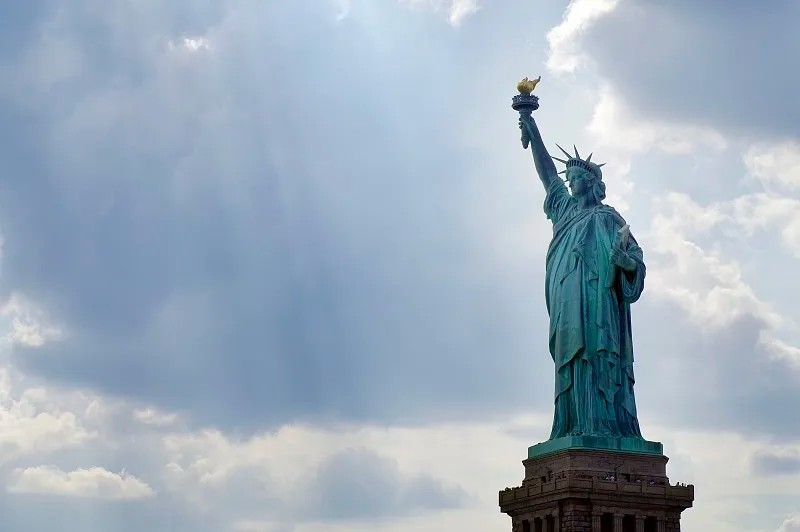SL: (498, 76, 695, 532)
